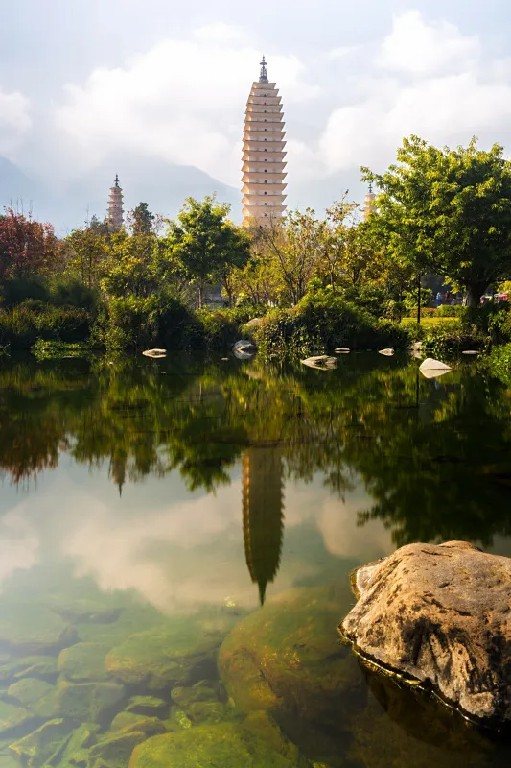ThreePagoda: (241, 56, 287, 224)
